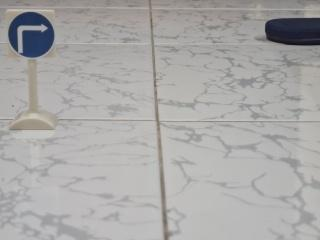right: (1, 3, 65, 68)
